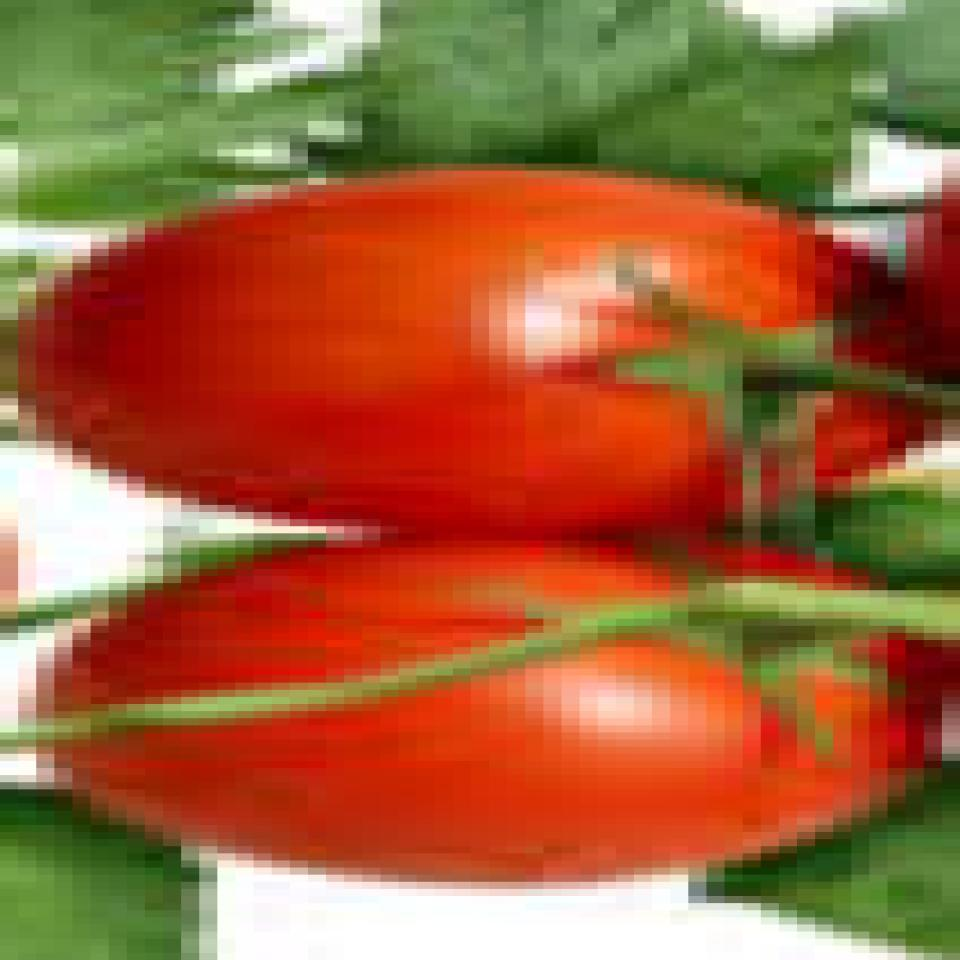Healthy: (0, 532, 960, 892), (0, 160, 909, 503)
